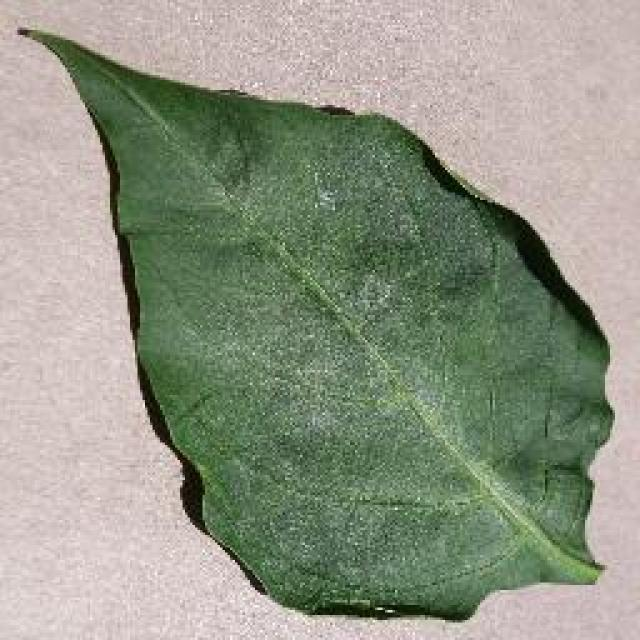Chilli_Healthy: (15, 22, 615, 622)
